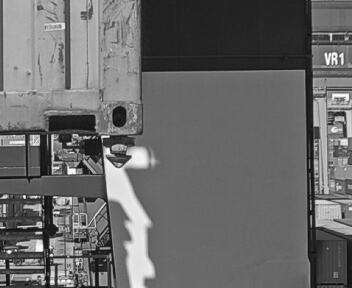twist_lock_2: (139, 129, 181, 173)
